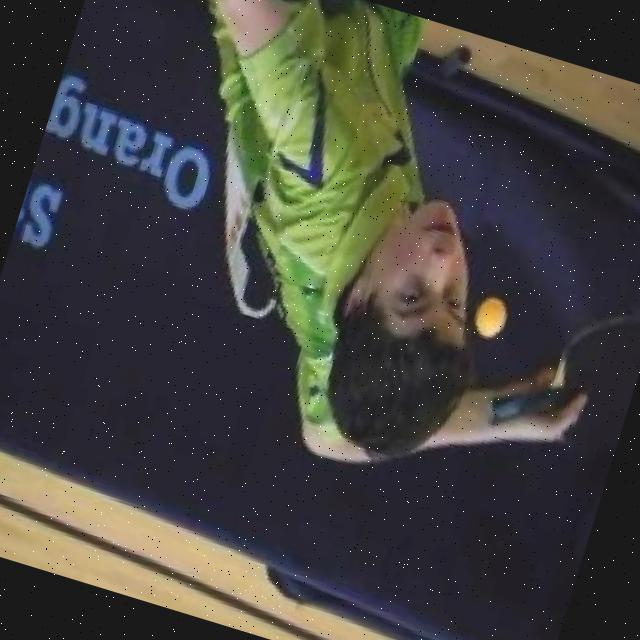ping-pong-ball: (469, 295, 507, 336)
